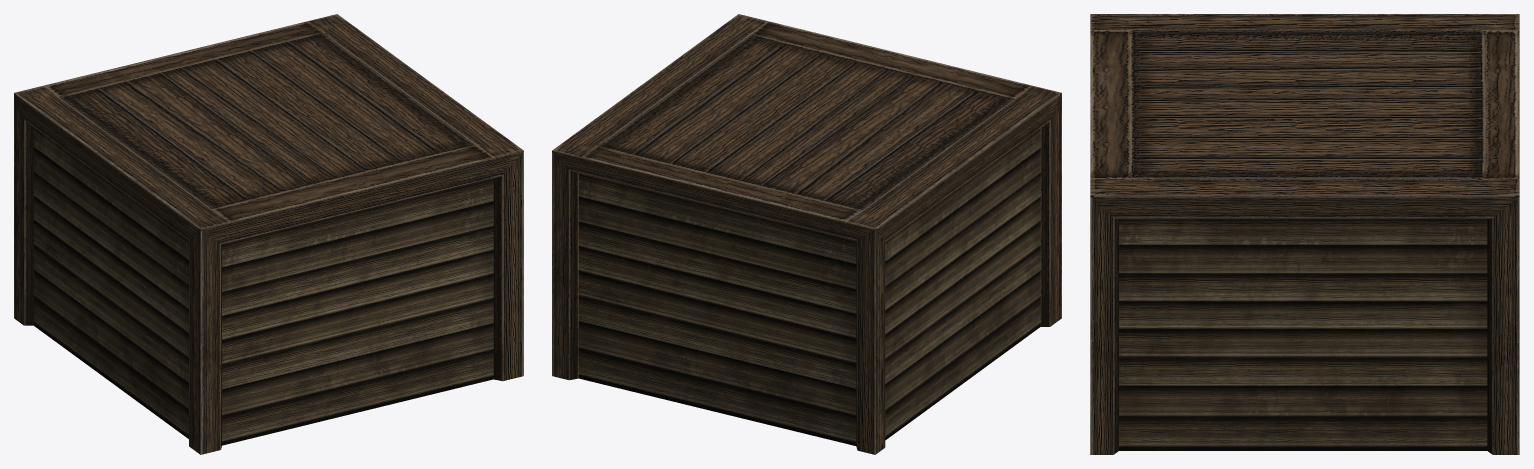
Rendered from House_6X6_04c.fbx.
3 renders of one model, left to right at view 1: azimuth 30°, elevation 25°; view 2: azimuth 150°, elevation 25°; view 3: azimuth 270°, elevation 25°, orthographic. The views are drawn at different scales.
Parts seen in each view (by area): view 1: House_6X6_04c; view 2: House_6X6_04c; view 3: House_6X6_04c.
Part boxes in pixels (x1,y1,x2,y2): House_6X6_04c: (14,14,523,454); House_6X6_04c: (552,14,1061,454); House_6X6_04c: (1090,14,1519,454).
Size of the model in its own units: 6 by 4 by 6.
